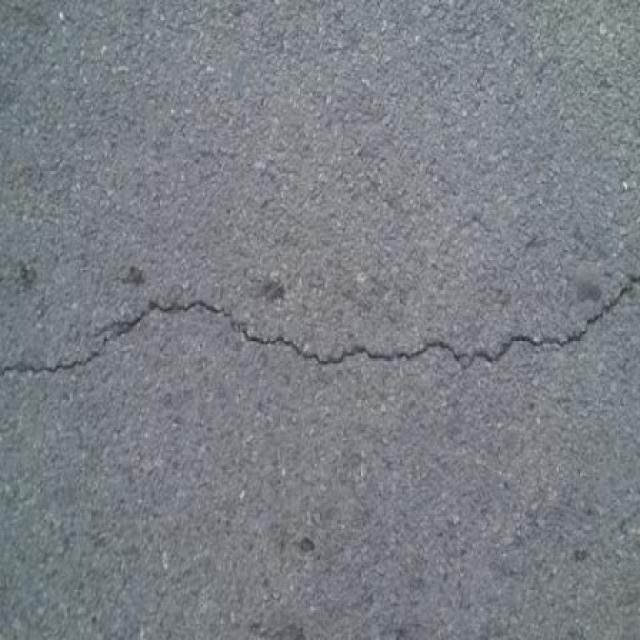Alligator Crack: (0, 272, 640, 381)
